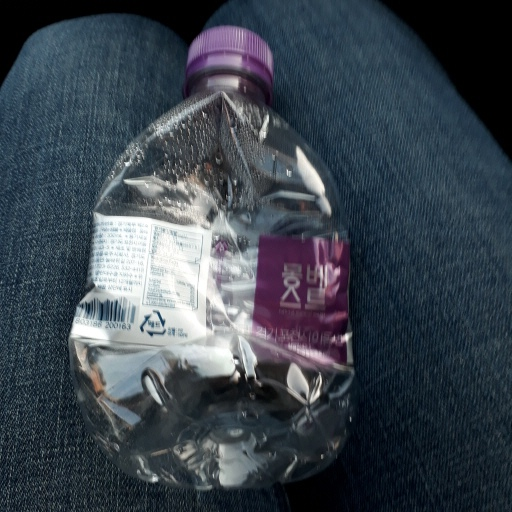Plastic_0: (65, 25, 357, 495)
